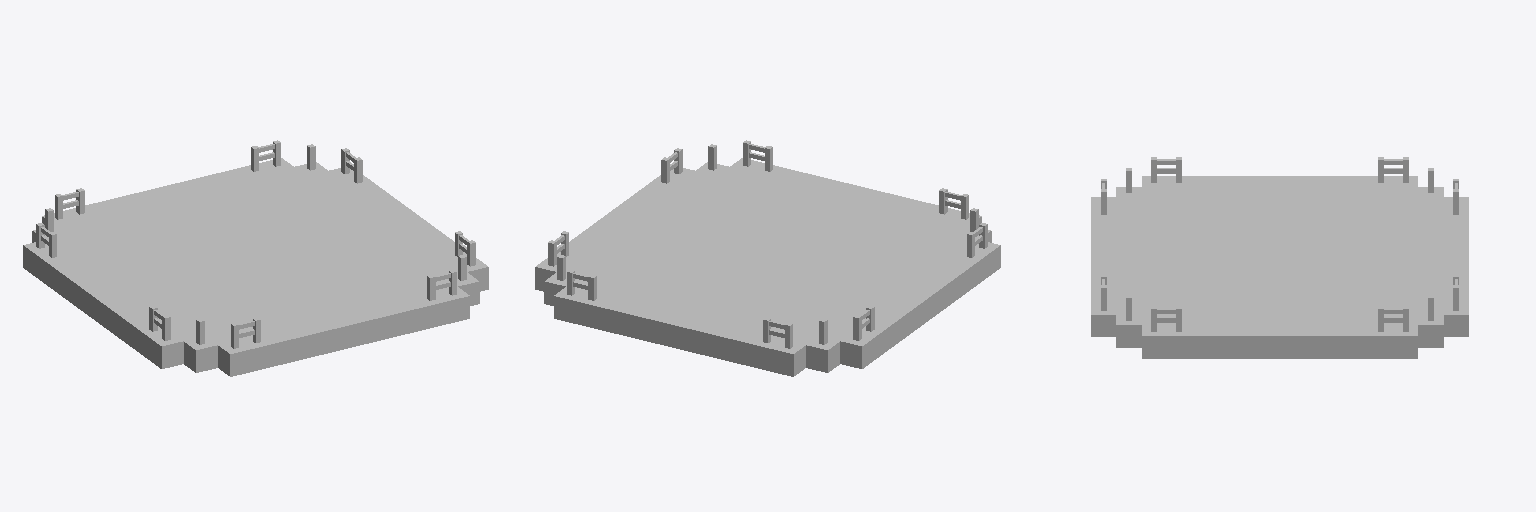
Rendered from Testing (Each Block 4000).obj.
3 renders of one model, left to right at view 1: azimuth 30°, elevation 25°; view 2: azimuth 150°, elevation 25°; view 3: azimuth 270°, elevation 25°, orthographic.
Visible parts, largest first — view 1: Unity__-23_-60_-38_to_-9_319_-24; view 2: Unity__-23_-60_-38_to_-9_319_-24; view 3: Unity__-23_-60_-38_to_-9_319_-24.
Boxes of the visible parts, box(x1,y1,x2,y2) form: Unity__-23_-60_-38_to_-9_319_-24: box(23, 140, 488, 376); Unity__-23_-60_-38_to_-9_319_-24: box(535, 140, 1000, 376); Unity__-23_-60_-38_to_-9_319_-24: box(1091, 157, 1468, 358).
Bounding box in the file's own units: 60 × 8 × 60.